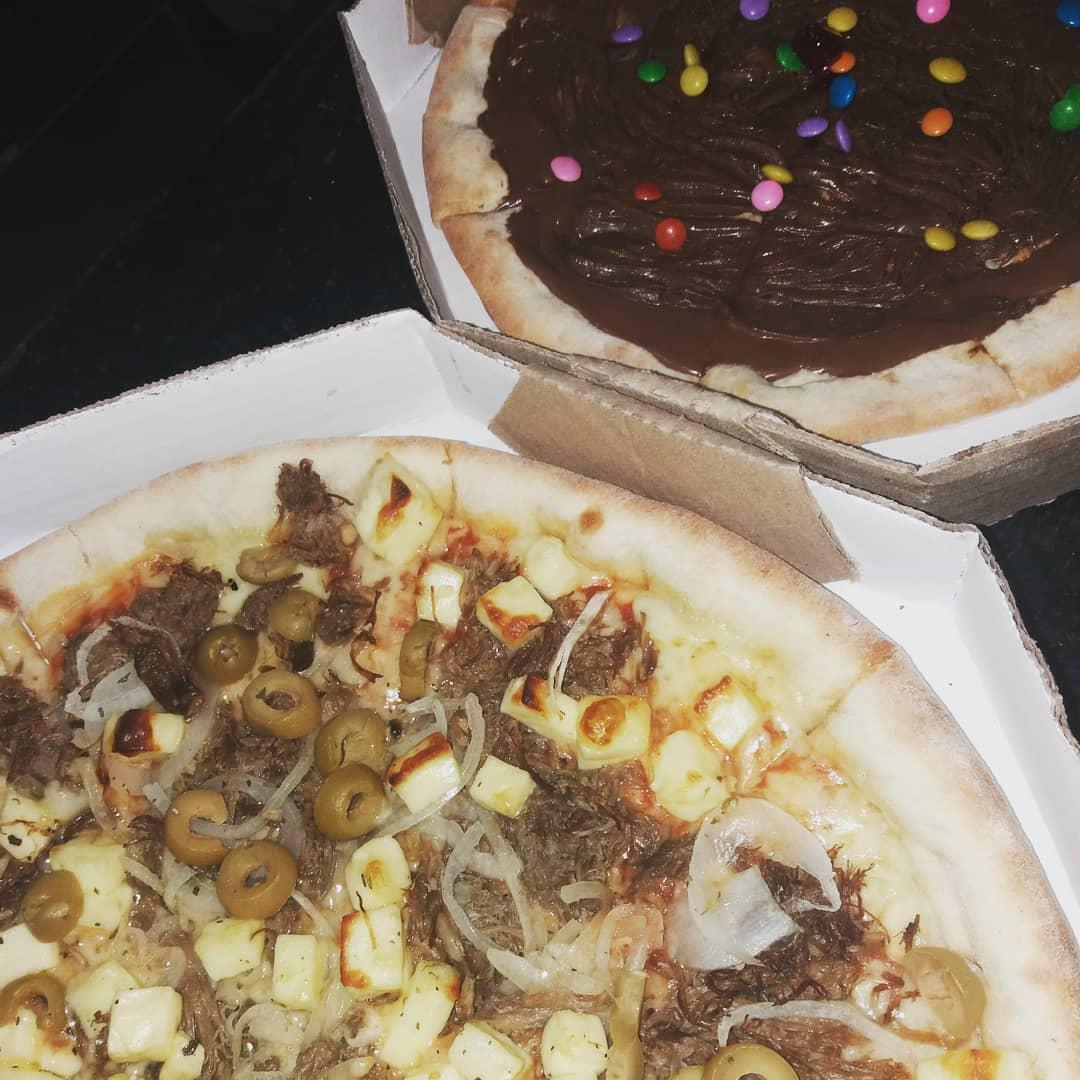Olives: (158, 788, 234, 854), (258, 580, 330, 646), (228, 841, 292, 907), (251, 668, 316, 732), (321, 711, 385, 776), (21, 871, 83, 936), (11, 961, 63, 1038), (710, 1036, 801, 1080), (201, 621, 267, 680), (394, 631, 441, 712), (321, 781, 376, 843)
Onion: (678, 794, 827, 967), (421, 808, 545, 971), (64, 628, 159, 727), (404, 698, 494, 800)
Pizza: (8, 434, 1080, 1080), (421, 8, 1080, 432)
